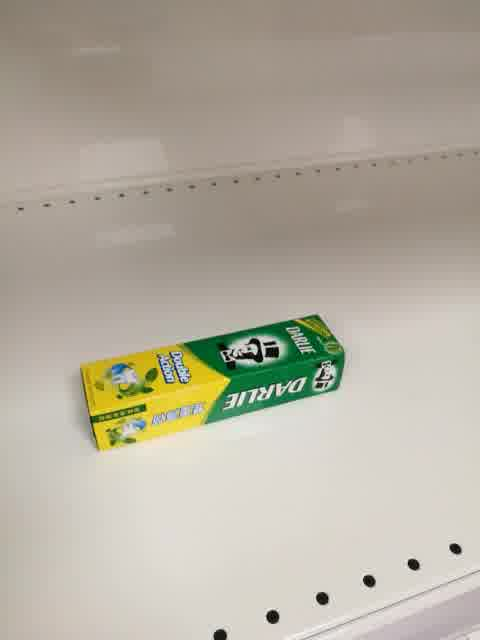toothpaste: (81, 315, 348, 456)
